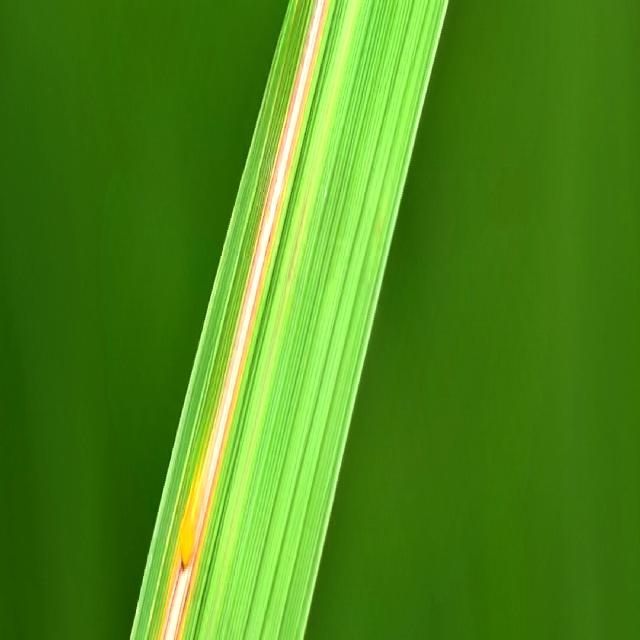BLB: (157, 0, 329, 640)
